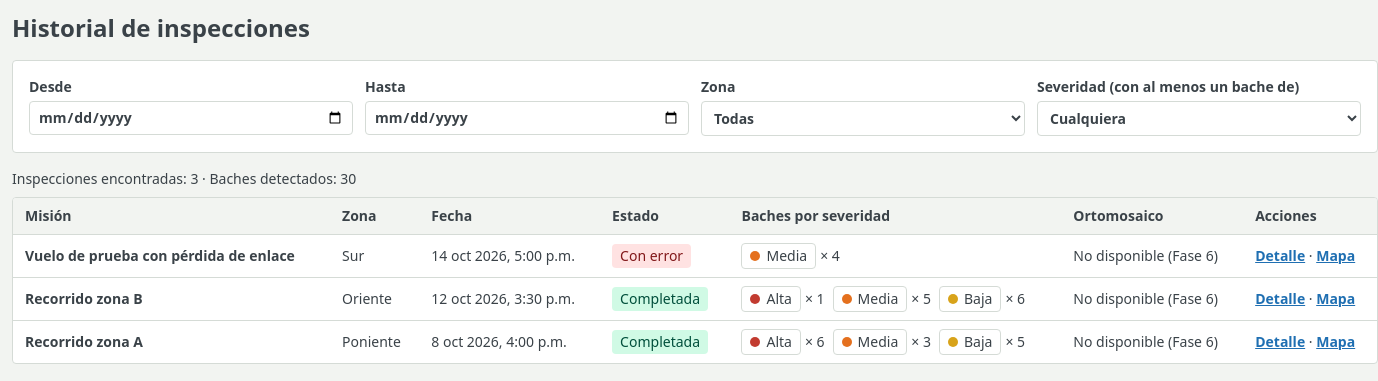
it: HistoryPage › lista solo misiones ejecutadas y filtra por zona
Check: the message shows "Inspecciones encontradas: 3", box [12, 169, 356, 188]
Select "Poniente" in the dropdown labelled "Zona" at (863, 118), box [701, 101, 1025, 136]
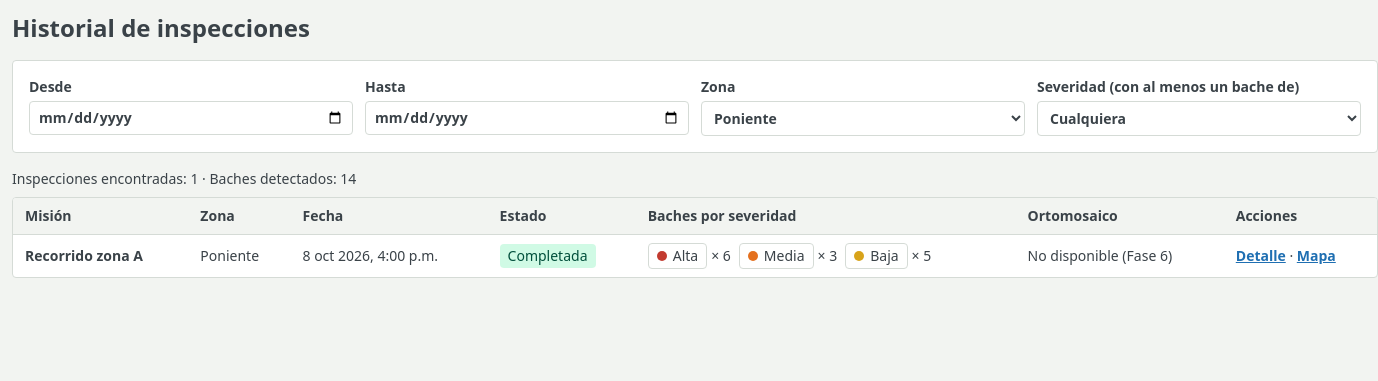
Check: the message shows "Inspecciones encontradas: 1", box [12, 169, 356, 188]
